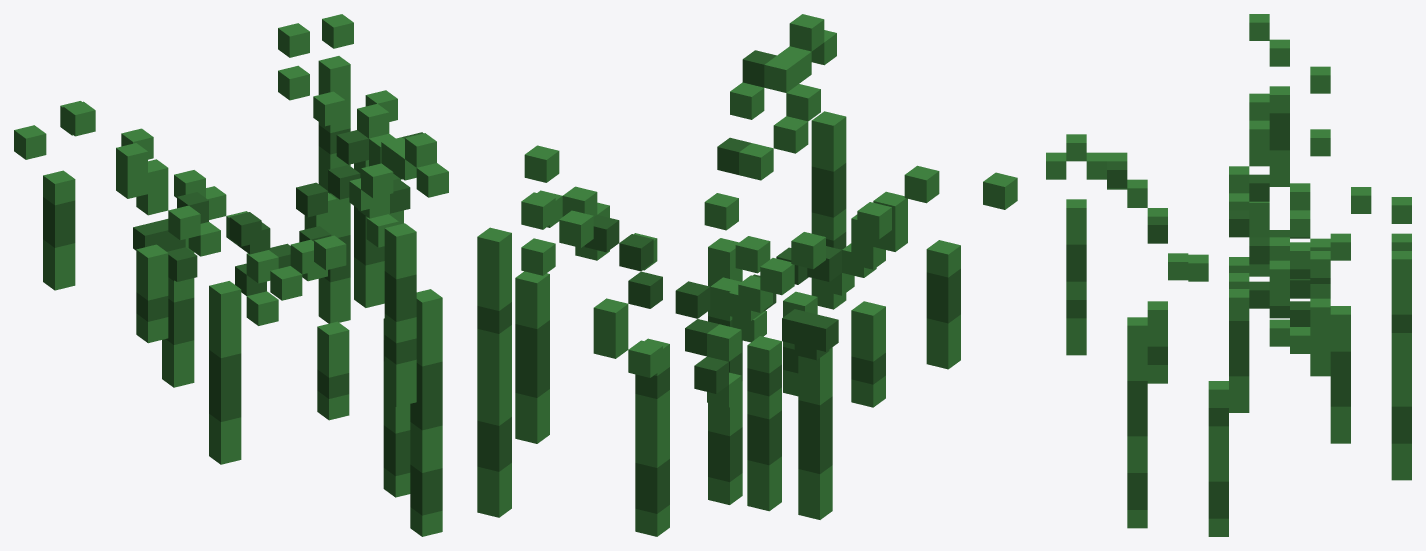
The model's file is Medieval Assets-34-Decoration - Swamp - Tree Highlights.obj.
The picture shows the model from 3 angles, left to right: view 1: azimuth 30°, elevation 25°; view 2: azimuth 150°, elevation 25°; view 3: azimuth 270°, elevation 25°; orthographic projection. The views are drawn at different scales.
Visible parts, largest first — view 1: Decoration - Swamp - Tree Highlights; view 2: Decoration - Swamp - Tree Highlights; view 3: Decoration - Swamp - Tree Highlights.
Part boxes in pixels (x1,y1,x2,y2): Decoration - Swamp - Tree Highlights: (14, 14, 448, 536); Decoration - Swamp - Tree Highlights: (477, 14, 1017, 536); Decoration - Swamp - Tree Highlights: (1046, 14, 1411, 536).
Bounding box in the file's own units: 2 × 2 × 1.8.
1 material, 1 textured.
